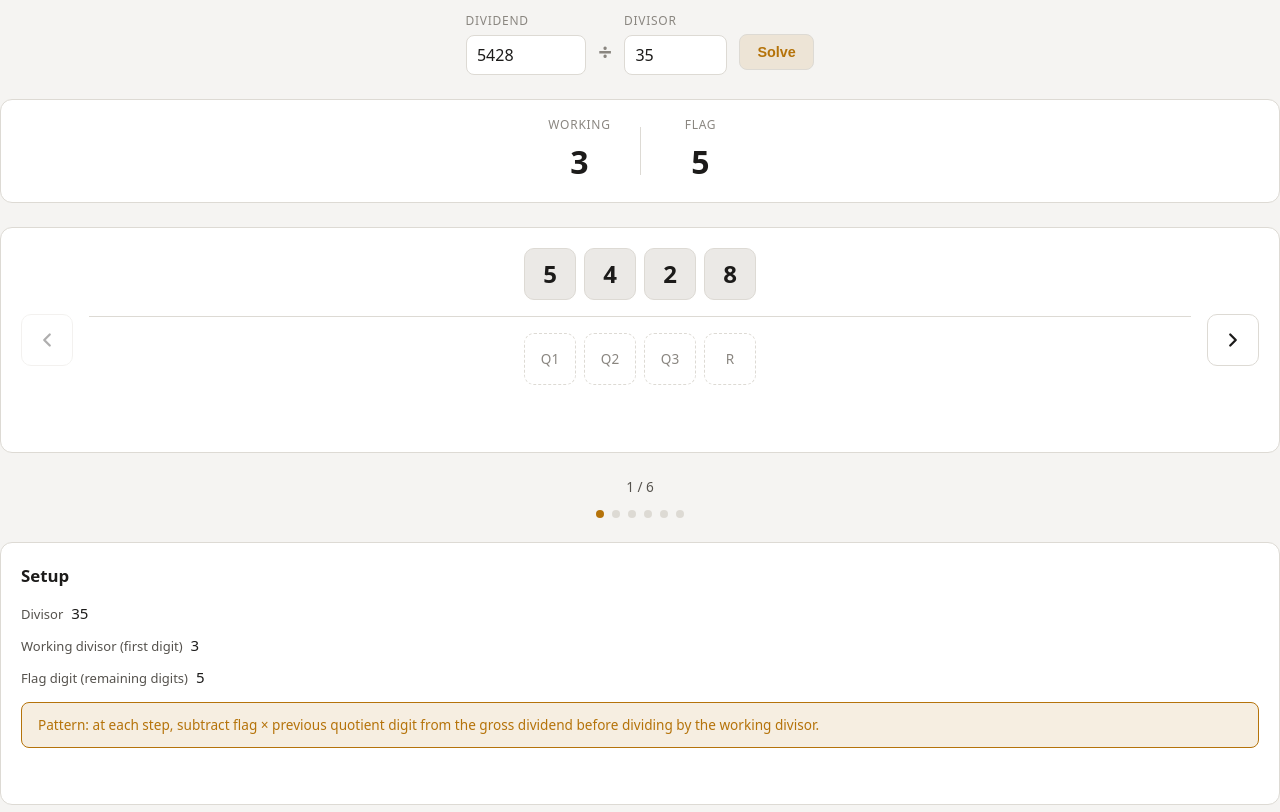
Test: DhvajankaPage › advances to the next step on click
What coordinates should you click on to do the following:
click the button named "Next step"
I would click on:
 (1233, 340)
Its box is x1=1207 y1=314 x2=1259 y2=366.
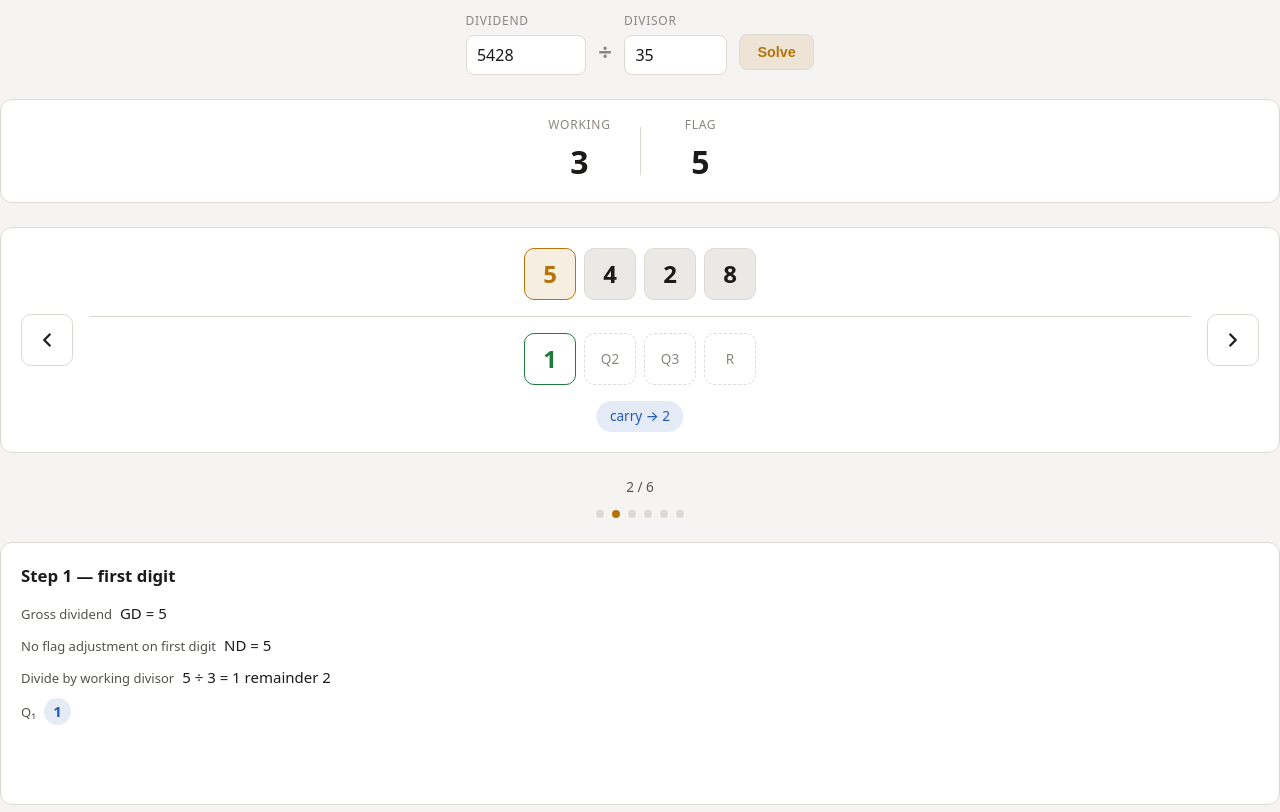
expect the text "2 / 6" is shown: met, box x1=626 y1=477 x2=654 y2=496
expect the heading "Step 1 — first digit" is shown: met, box x1=21 y1=564 x2=176 y2=587
